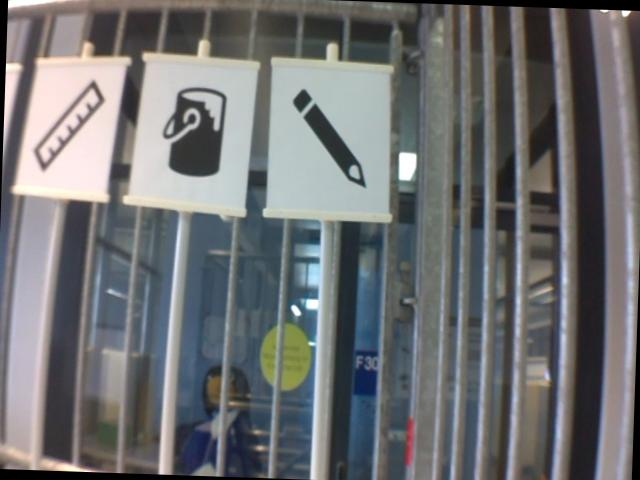bucket: (156, 83, 231, 182)
pencil: (284, 84, 381, 192)
ruler: (27, 74, 109, 179)
